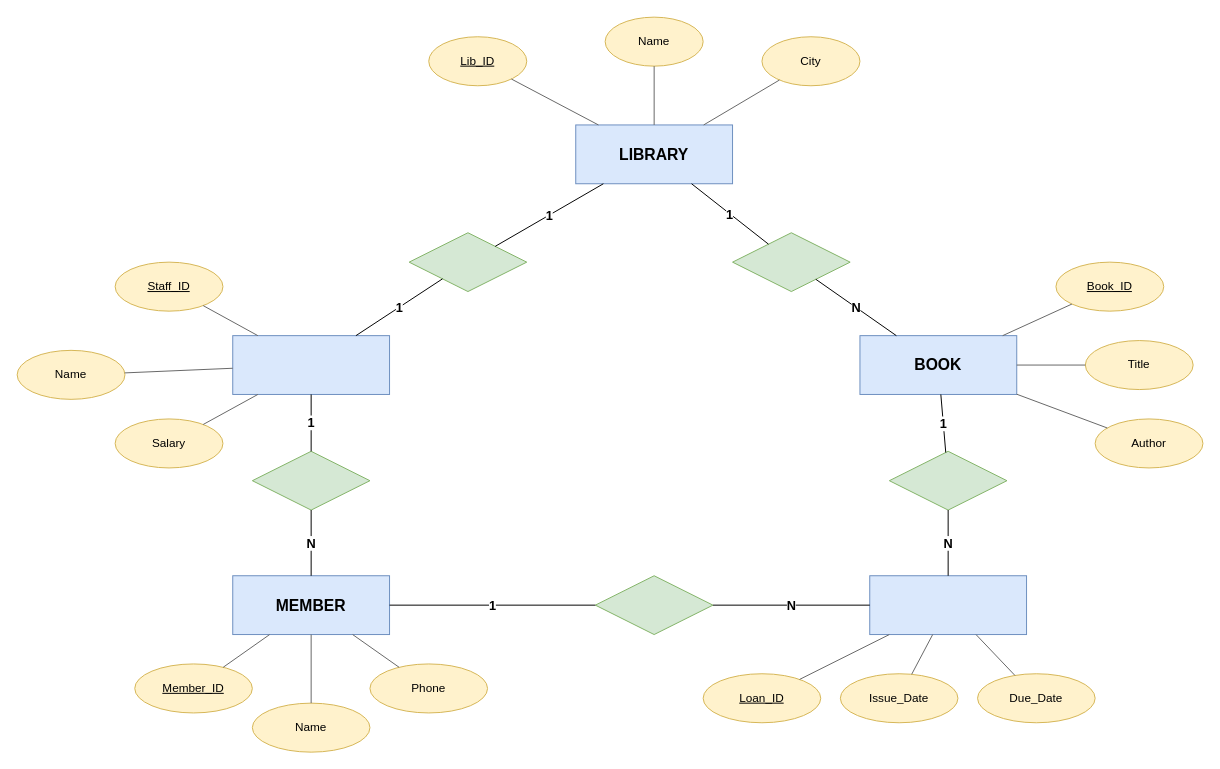
Some shapes in this 1220 by 769 pixel diagram are drawn without their labels. The box of each missing label's shape, as (x1, y1, x2, y2) in pixels:
Borrows: (594, 575, 713, 635)
Includes: (888, 450, 1007, 510)
LOAN: (869, 575, 1027, 635)
Manages: (408, 232, 527, 292)
Owns: (732, 232, 850, 292)
Registers: (251, 450, 370, 510)
STAFF: (232, 335, 390, 394)
